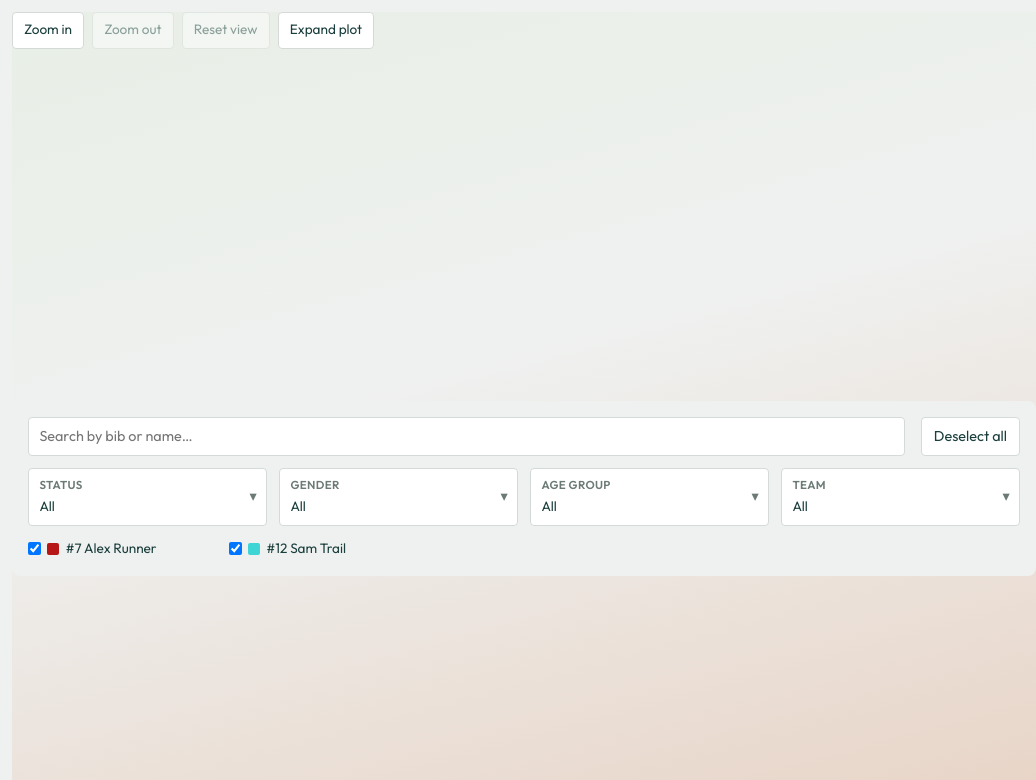
Test case: RaceFlowChart.vue › filters legend items by gender
What coordinates should you click on to do the following:
click the button with class "filter-dropdown-trigger" showing "Gender All"
I would click on:
 (398, 497)
Its box is [279,468,518,526].
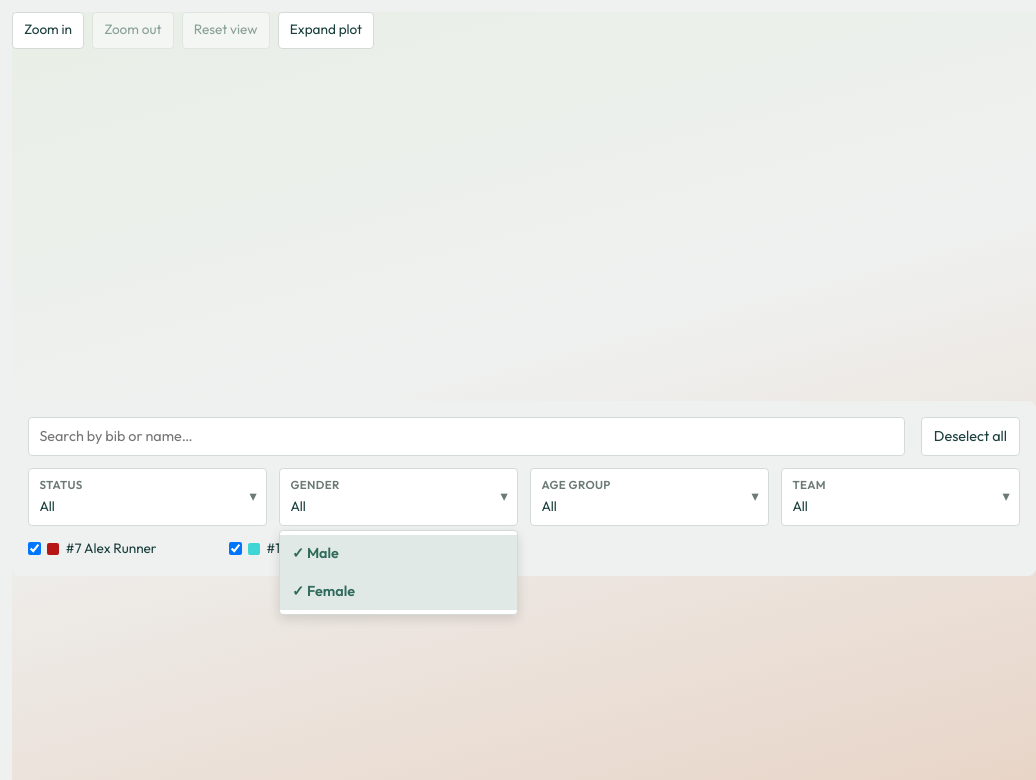
What coordinates should you click on to do the following:
click the button with class "filter-dropdown-option" showing "Female"
I would click on:
 (398, 591)
Its box is [280,572,517,610].
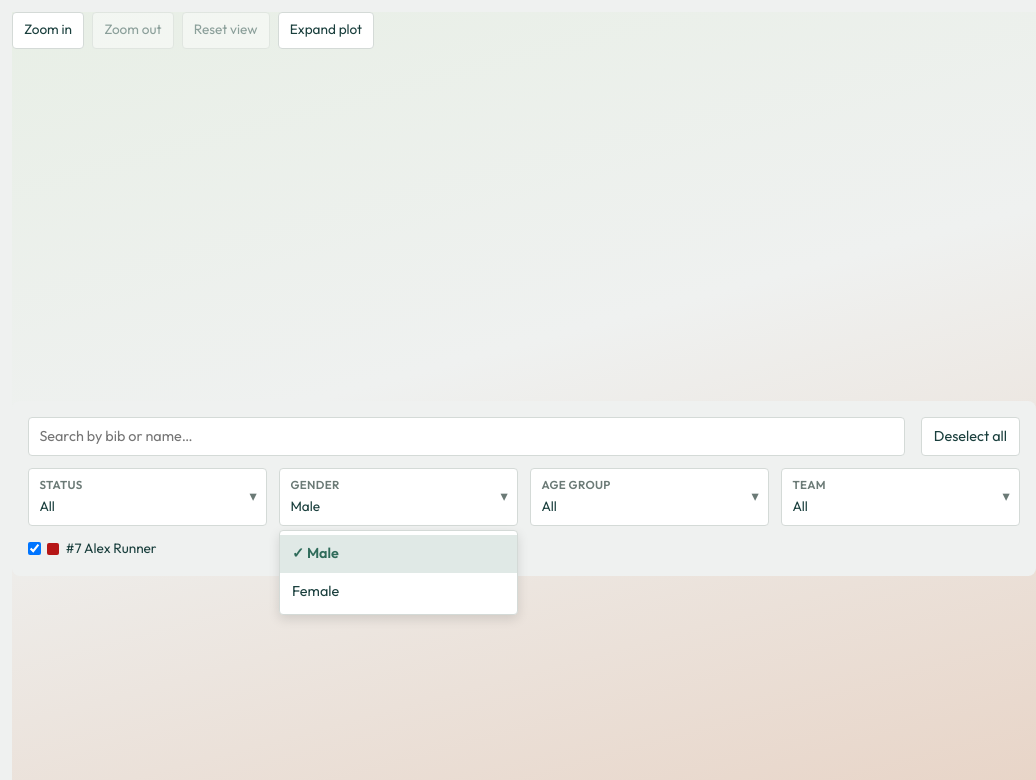
Expected: the text "#7 Alex" is shown, [66,539,157,557]
Result: the text "#12 Sam" is gone
